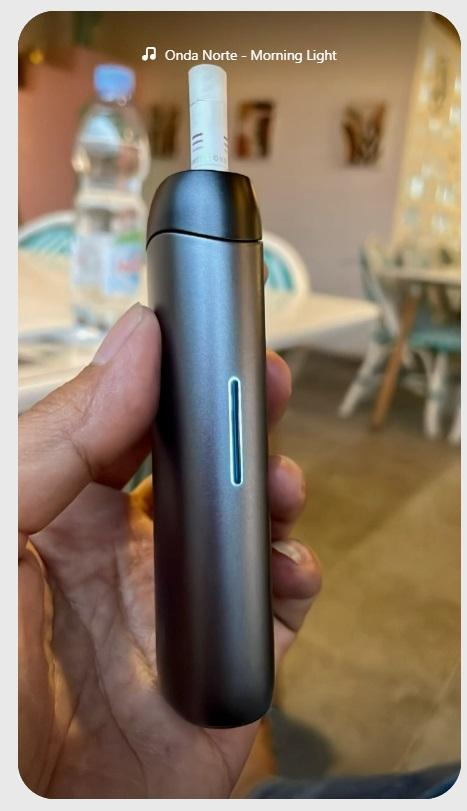iqos: (147, 64, 273, 727)
